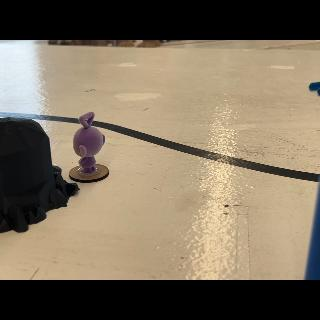teletubby: (73, 112, 105, 174)
